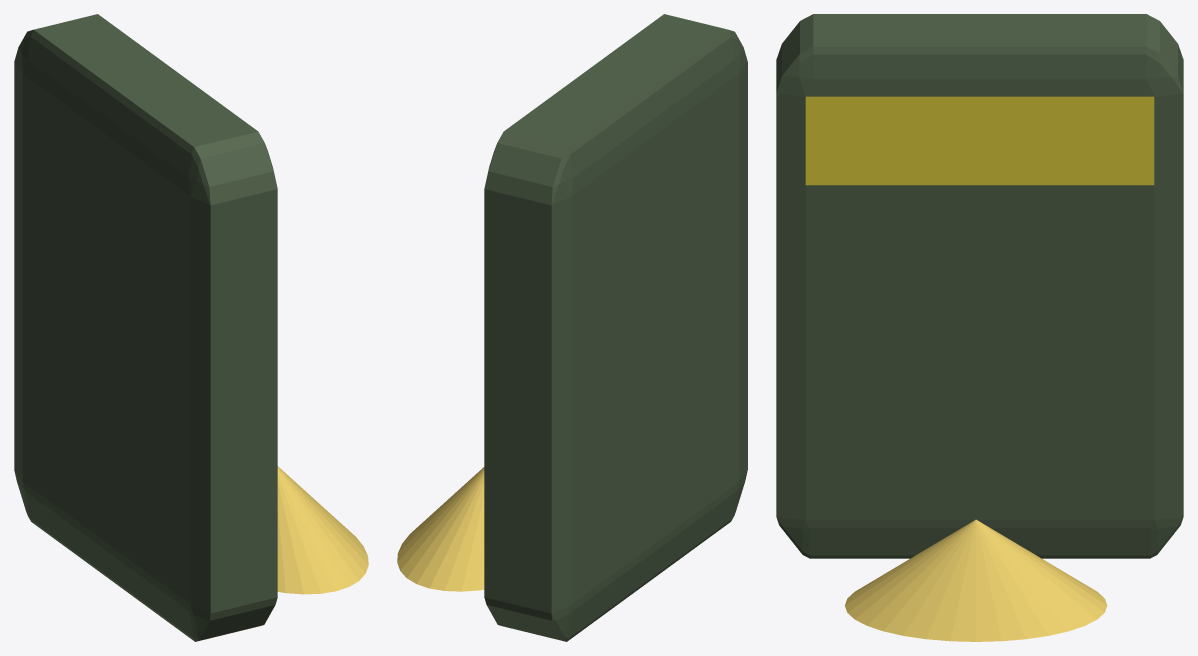
Rendered from Celox.fbx.
The picture shows the model from 3 angles, left to right: view 1: azimuth 30°, elevation 25°; view 2: azimuth 150°, elevation 25°; view 3: azimuth 270°, elevation 25°; orthographic projection. The views are drawn at different scales.
Visible parts, largest first — view 1: Cube, Cone; view 2: Cube, Cone; view 3: Cube, Cone.
Boxes of the visible parts, box(x1,y1,x2,y2) form: Cube: box(14, 14, 277, 641); Cone: box(277, 466, 368, 594); Cube: box(484, 14, 747, 641); Cone: box(397, 467, 484, 591); Cube: box(776, 14, 1183, 558); Cone: box(845, 519, 1107, 641).
Bounding box in the file's own units: 170 × 339 × 244.
